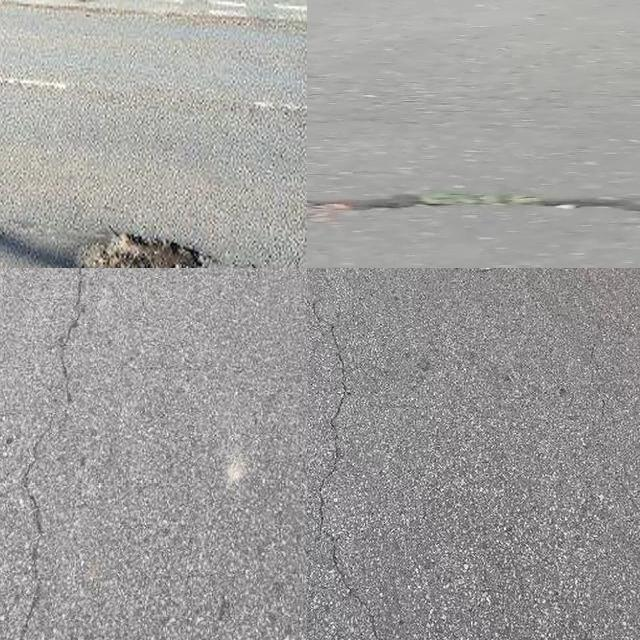Lubang: (74, 232, 204, 268)
Melintang: (307, 177, 640, 234)
Memanjang: (1, 268, 104, 640), (307, 268, 391, 640)
